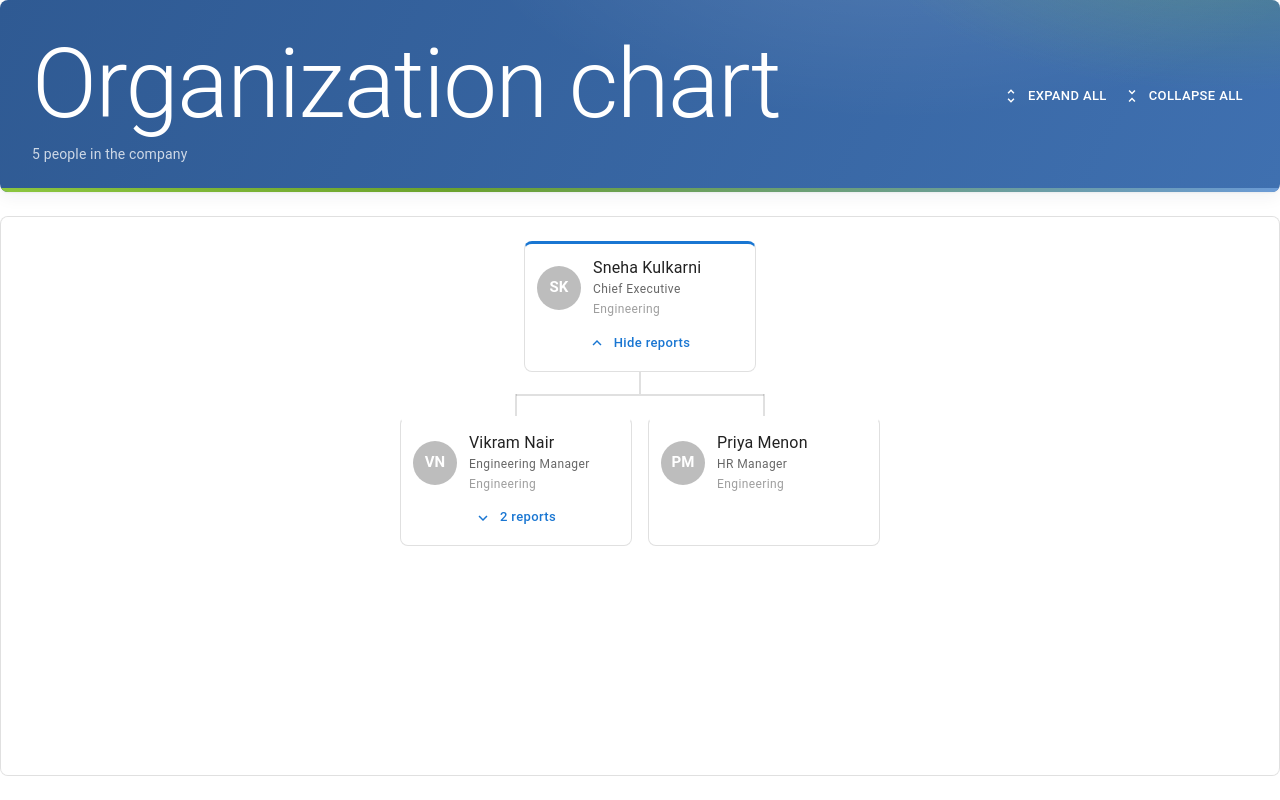
Scenario: OrgChartPage › collapses the whole tree at once
This screenshot has width=1280, height=800.
Click the button "Expand all" at (1055, 96), box left=999, top=81, right=1112, bottom=111
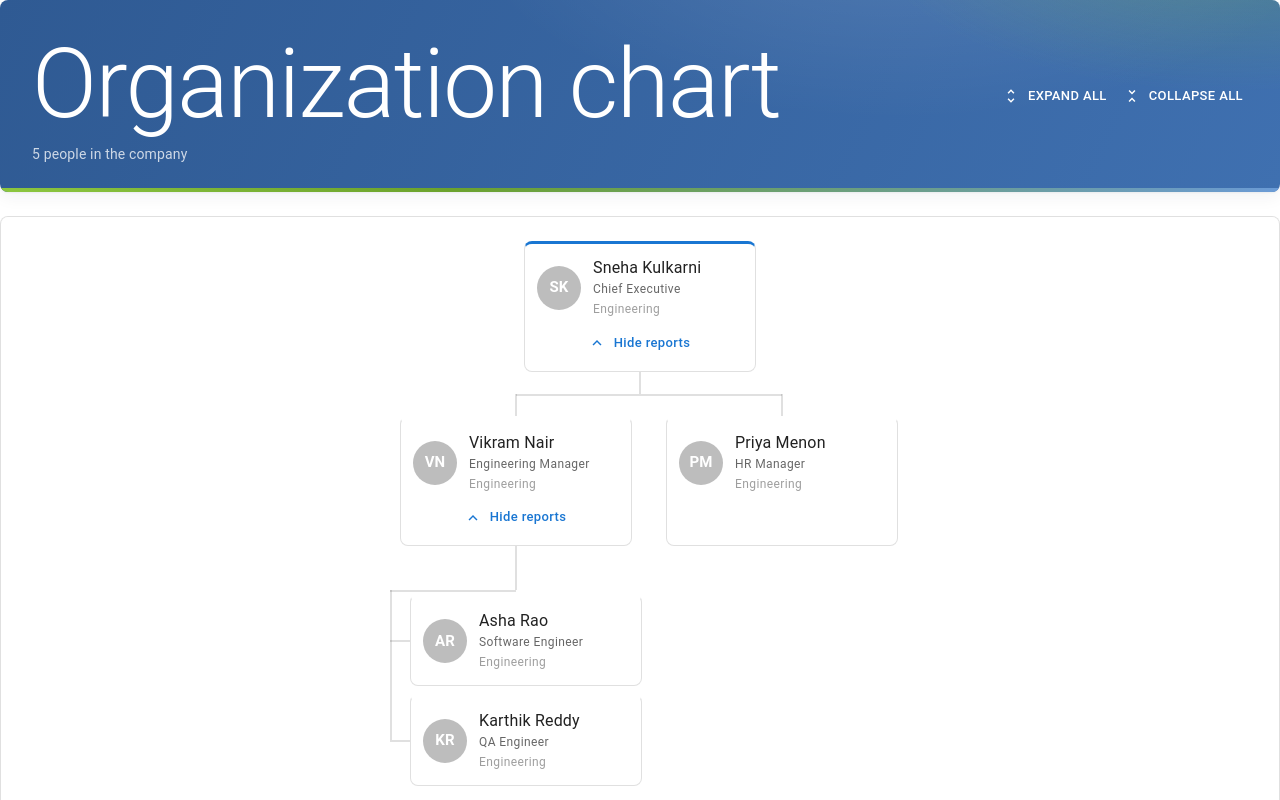
Now the button "Asha Rao" is shown, box left=479, top=609, right=548, bottom=633
Click the button "Collapse all" at (1184, 96), box left=1120, top=81, right=1248, bottom=111
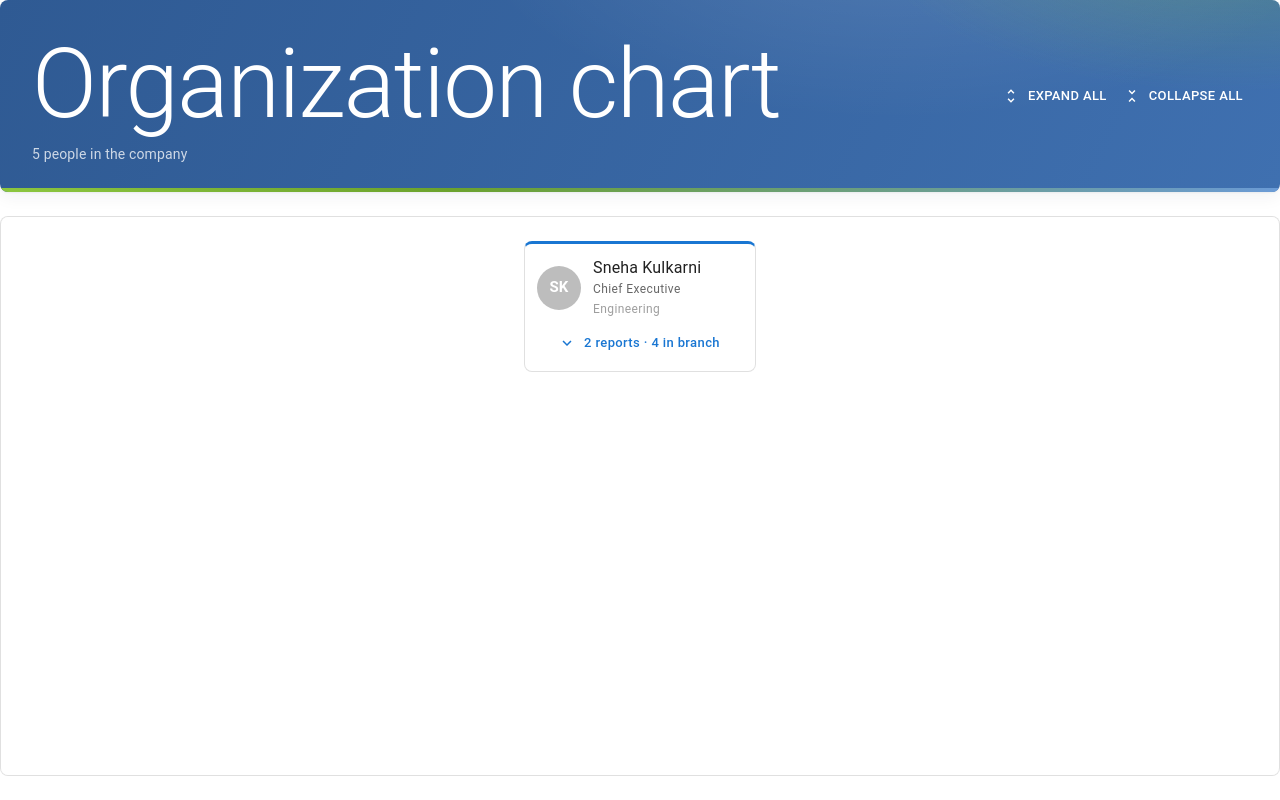
Now the button "Vikram Nair" is gone
